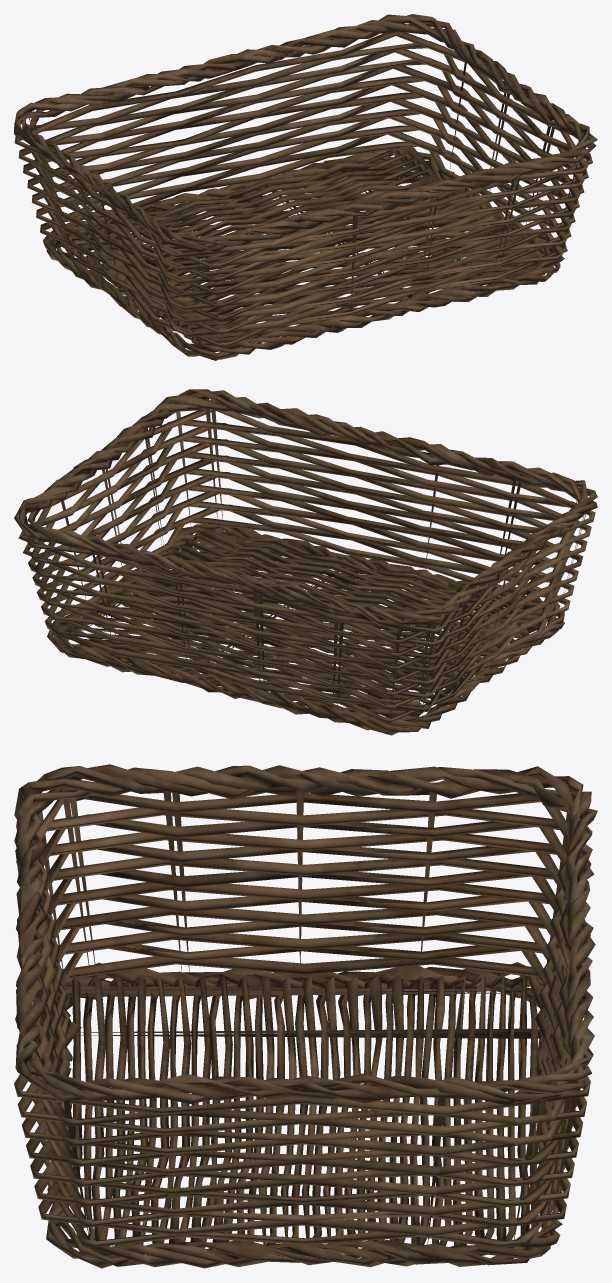
File: wicker_basket_01.glb
The picture shows the model from 3 angles, top to bottom: view 1: azimuth 30°, elevation 25°; view 2: azimuth 150°, elevation 25°; view 3: azimuth 270°, elevation 25°; orthographic projection. The views are drawn at different scales.
Parts seen in each view (by area): view 1: wicker_basket_01_lod0; view 2: wicker_basket_01_lod0; view 3: wicker_basket_01_lod0.
Boxes of the visible parts, <box> form: wicker_basket_01_lod0: <box>14,14,597,360</box>; wicker_basket_01_lod0: <box>14,389,597,735</box>; wicker_basket_01_lod0: <box>14,764,597,1268</box>.
Size of what is drawn, in the model's own units: 0.3841 by 0.1179 by 0.2936.
1 material, 1 textured.
